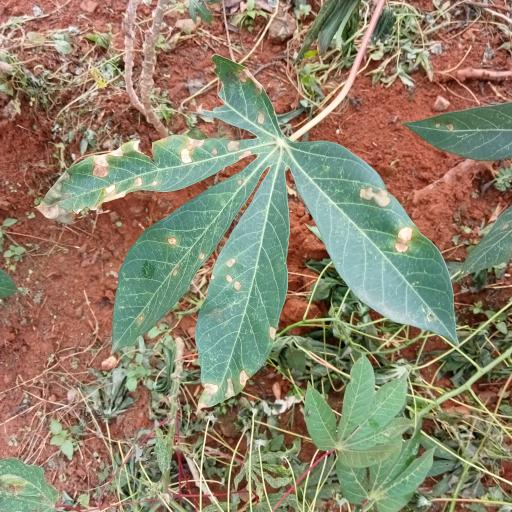Cassava_Brown_Leaf_Spot: (111, 220, 288, 403), (35, 126, 258, 219), (347, 167, 436, 268), (218, 58, 289, 136)
